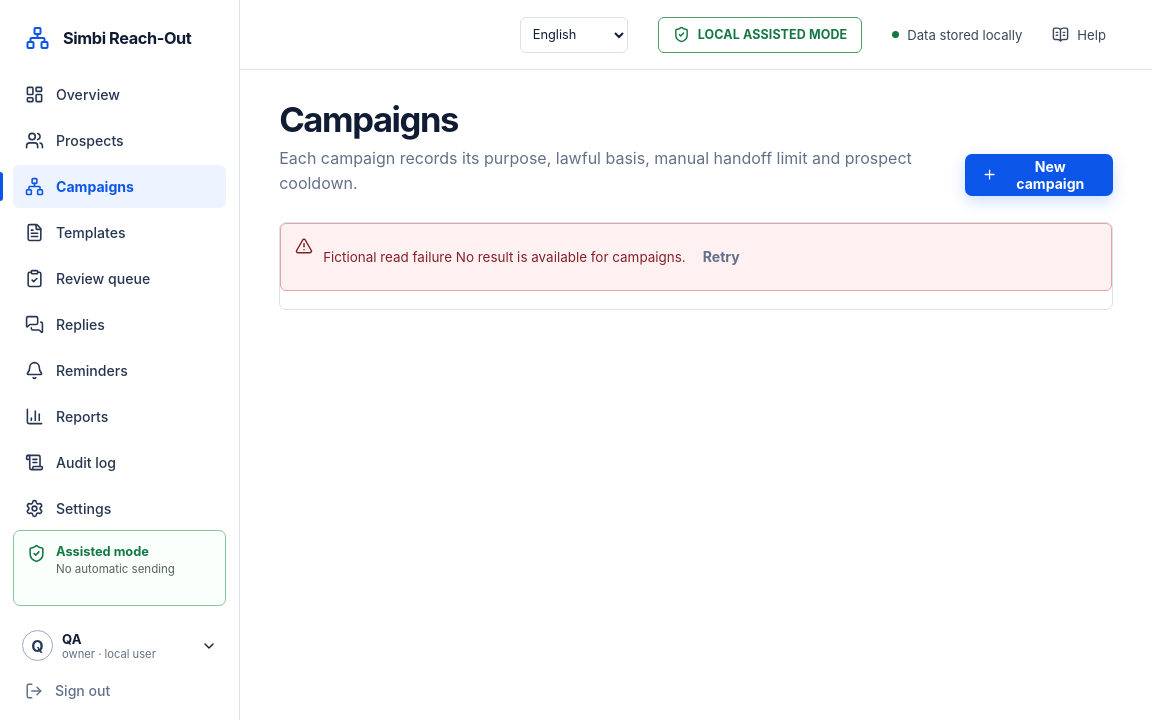
Test: truthful loading states on every operational route › /campaigns distinguishes failure from emptiness and can retry
Check: the text "Fictional read failure" is shown, box [323,249,452,265]
Check: the text "No result is available for campaigns." is shown, box [456,249,686,265]
Click the button "Retry". click: point(721, 257)
box: [686,236,757,278]
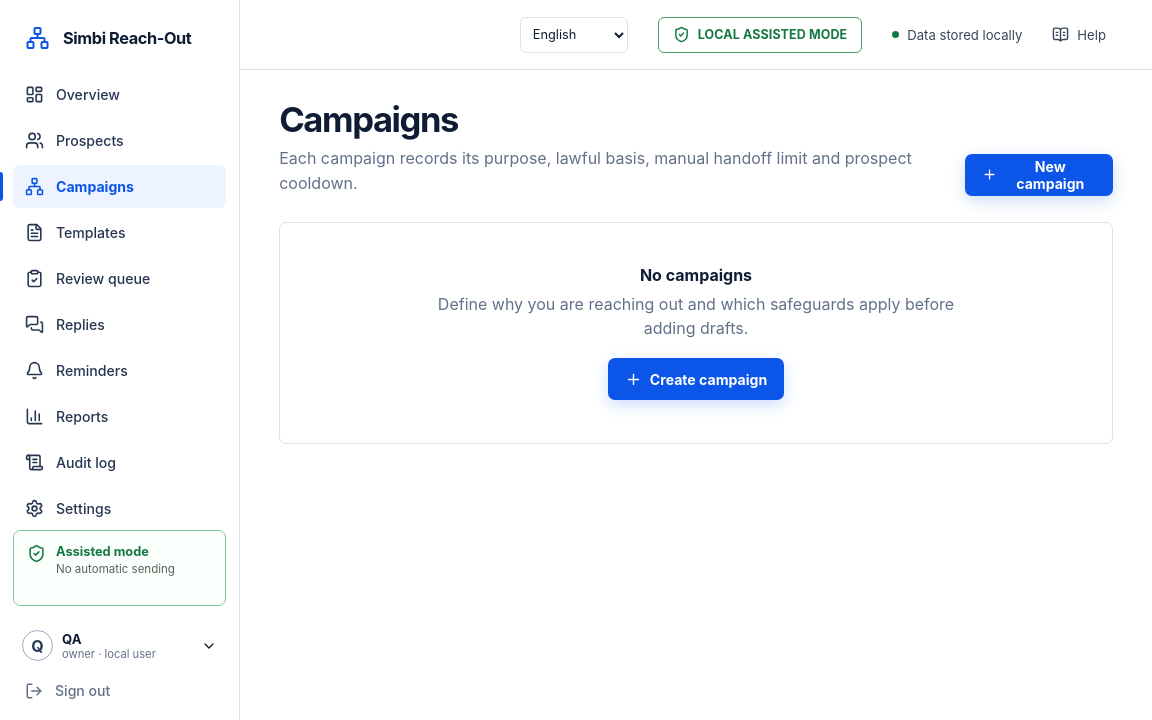
Check: the heading "No campaigns" is shown, box [640,265,752,285]
Check: the text "Fictional read failure" is gone
